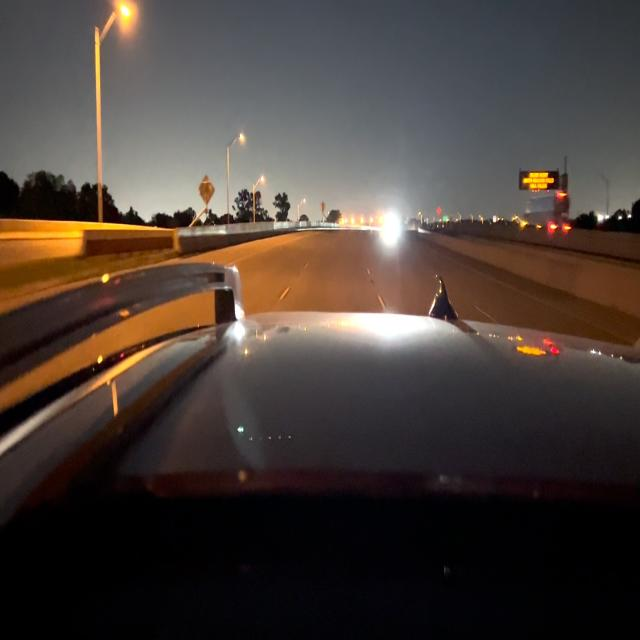back-of-sign: (199, 175, 217, 205)
